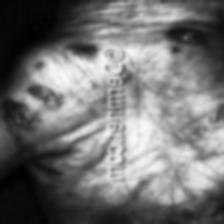Toxin: (156, 23, 216, 61), (0, 96, 35, 130), (29, 76, 62, 108), (63, 40, 101, 62), (206, 104, 224, 126), (38, 55, 50, 77)
